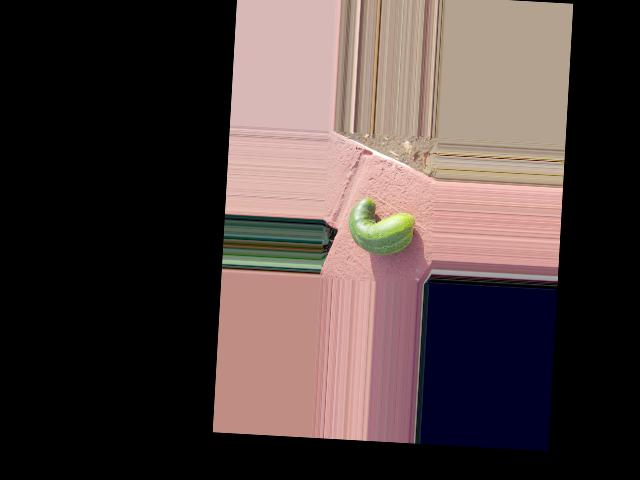cucumber: (347, 196, 416, 256)
